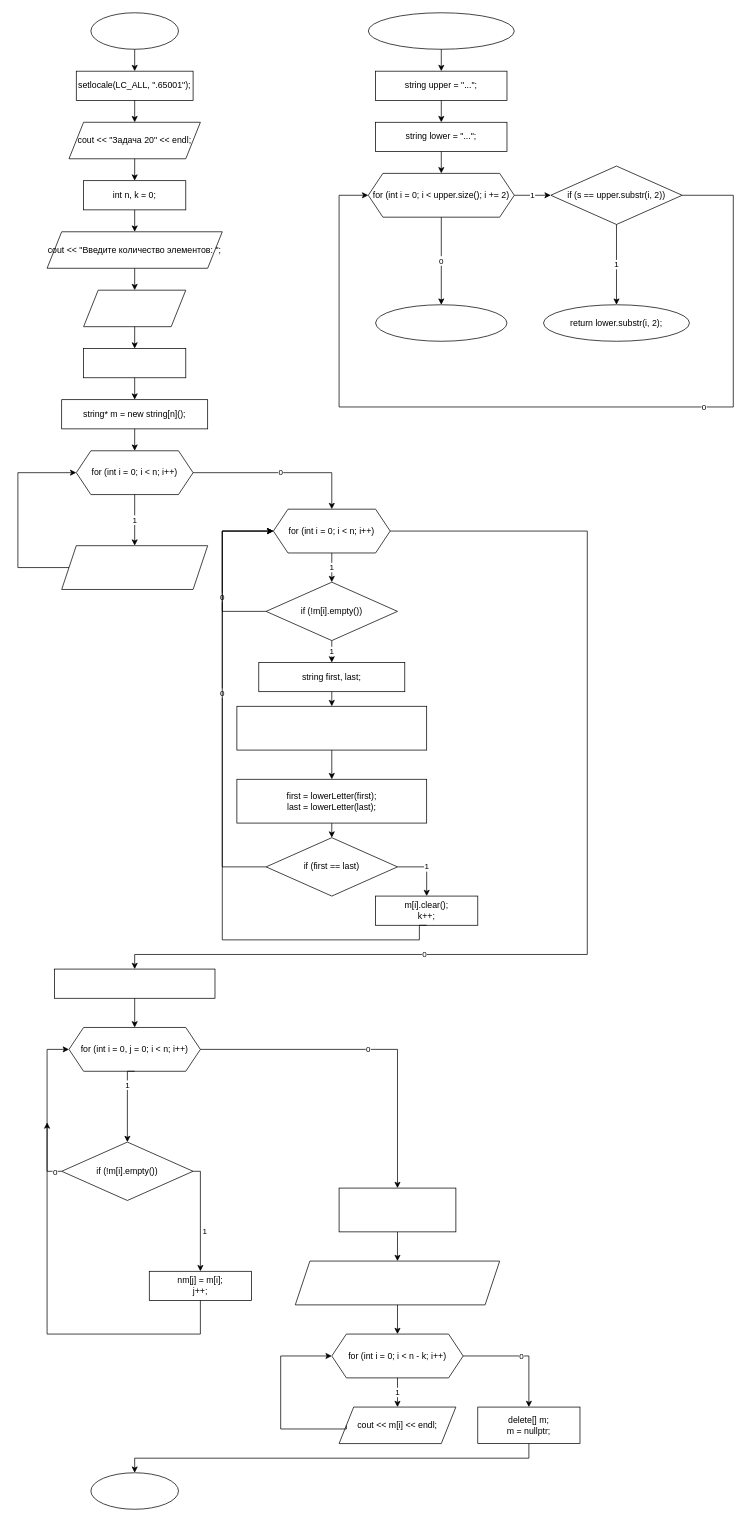
This 752x1522 diagram has some shape labels left out. The shapes that lost their labels are listed below. From the top down, each one's centre as x and y in pixels, then its label:
point (134, 30): Начало
point (441, 30): string lowerLetter(string s)
point (134, 308): cin >> n;
point (441, 322): return s;
point (134, 363): cin.ignore();
point (134, 567): cout << i + 1 << " строка: "; getline(cin, m[i]);
point (331, 728): first = m[i].substr(0, 2); last = m[i].substr(m[i].size() - 2, 2);
point (134, 983): string* nm = new string[n - k]();
point (397, 1209): delete[] m; m = nm; nm = nullptr;
point (397, 1282): cout << endl << "Массив после удаления:" << endl;
point (134, 1490): return 0;
